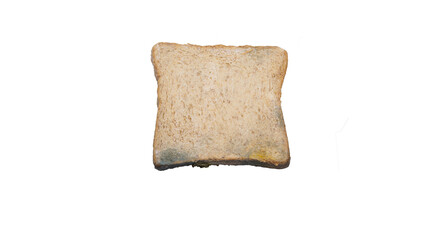mold_bread: (152, 144, 200, 173), (238, 146, 272, 167), (272, 104, 289, 131)
